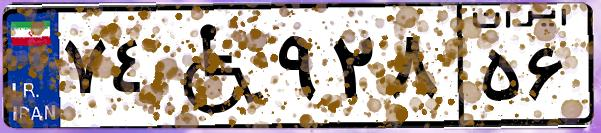2: (330, 28, 385, 110)
4: (110, 28, 158, 98)
5: (475, 38, 525, 113)
6: (525, 38, 570, 115)
7: (57, 26, 110, 100)
8: (385, 28, 445, 110)
9: (270, 28, 330, 110)
ژ (معلولین و جانبازان): (158, 12, 270, 120)
